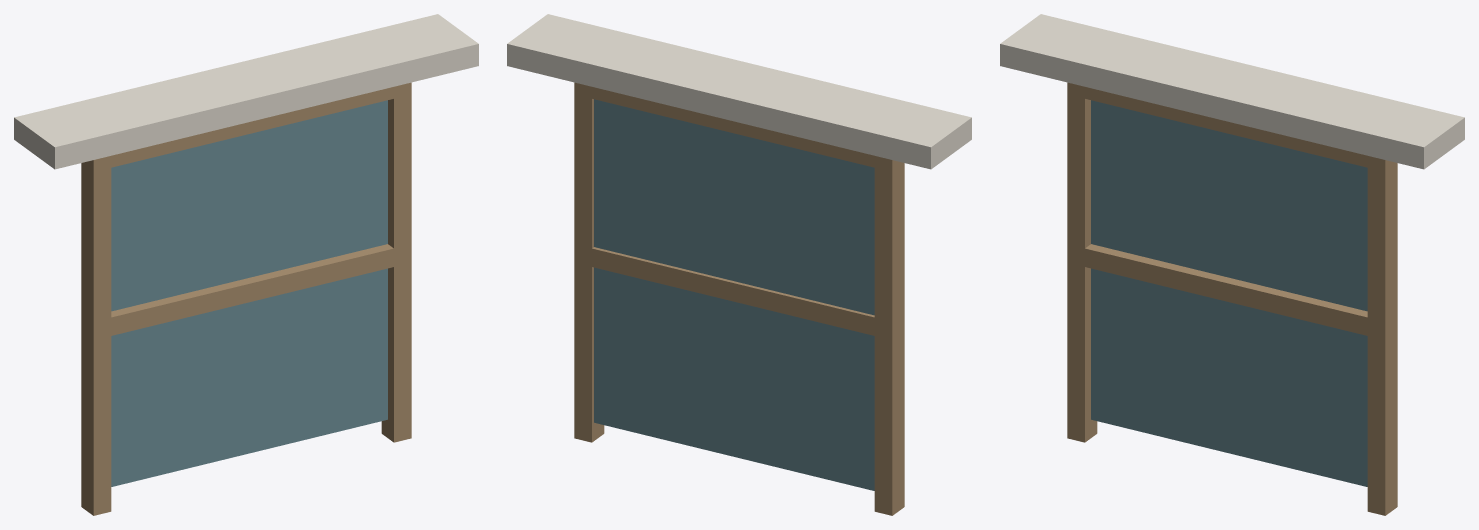
The model's file is mdl_architecture_window_modern_001.glb.
3 renders of one model, left to right at view 1: azimuth 30°, elevation 25°; view 2: azimuth 150°, elevation 25°; view 3: azimuth 330°, elevation 25°, orthographic.
Visible parts, largest first — view 1: m_vidrio_petroleo, m_madera, m_caliza; view 2: m_vidrio_petroleo, m_madera, m_caliza; view 3: m_vidrio_petroleo, m_madera, m_caliza.
Part boxes in pixels (x1,y1,x2,y2): m_vidrio_petroleo: (111, 100, 387, 486); m_madera: (81, 82, 411, 515); m_caliza: (14, 14, 478, 169); m_vidrio_petroleo: (594, 99, 874, 490); m_madera: (574, 82, 904, 515); m_caliza: (507, 14, 971, 169); m_vidrio_petroleo: (1091, 100, 1367, 486); m_madera: (1067, 82, 1397, 515); m_caliza: (1000, 14, 1464, 169).
Size of the model in its own units: 1.2 by 1.06 by 0.2.
